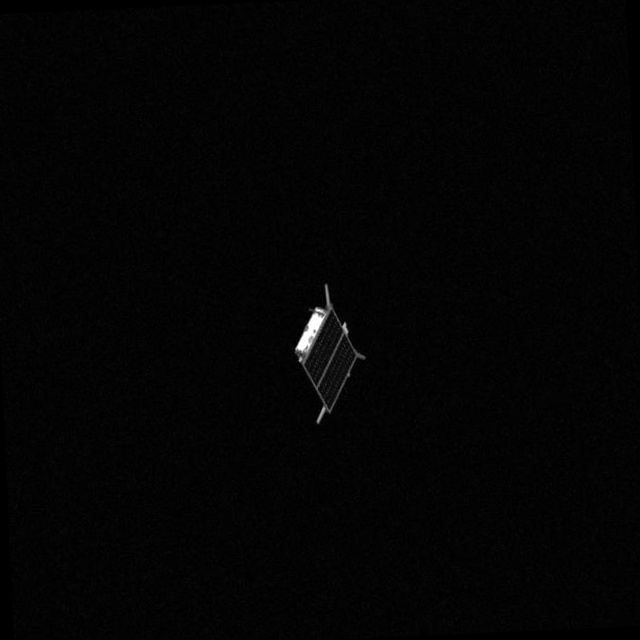medium_debris: (278, 278, 375, 432)
